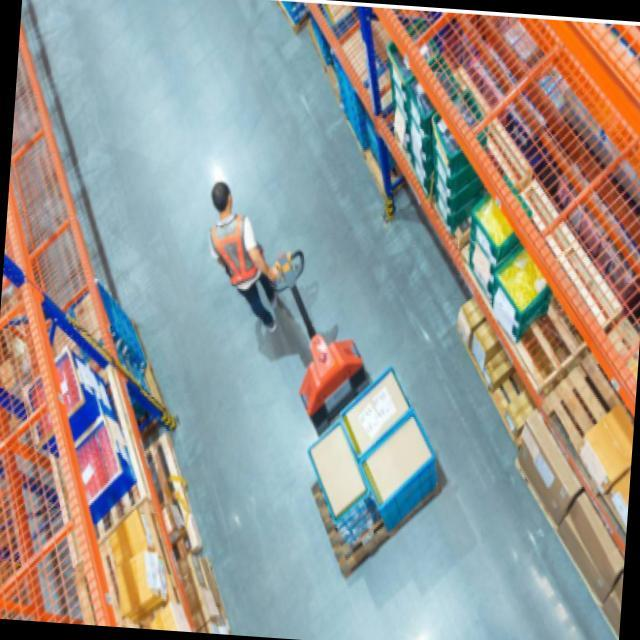vest: (205, 208, 274, 293)
